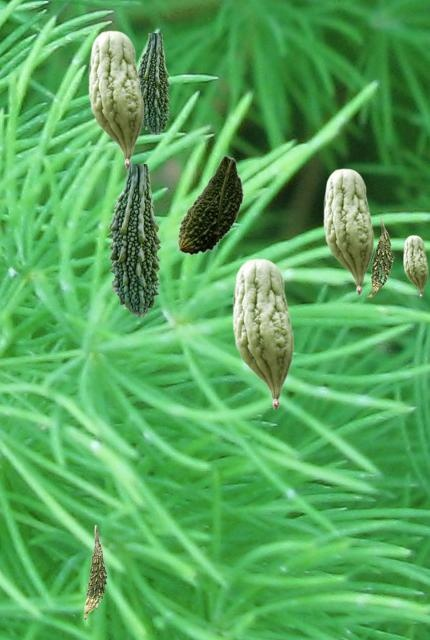ampalaya: (232, 258, 293, 409), (107, 164, 160, 315), (88, 30, 143, 168), (177, 155, 243, 254), (323, 168, 373, 294), (138, 33, 169, 133), (367, 215, 393, 296), (84, 525, 106, 619), (403, 235, 427, 297)
